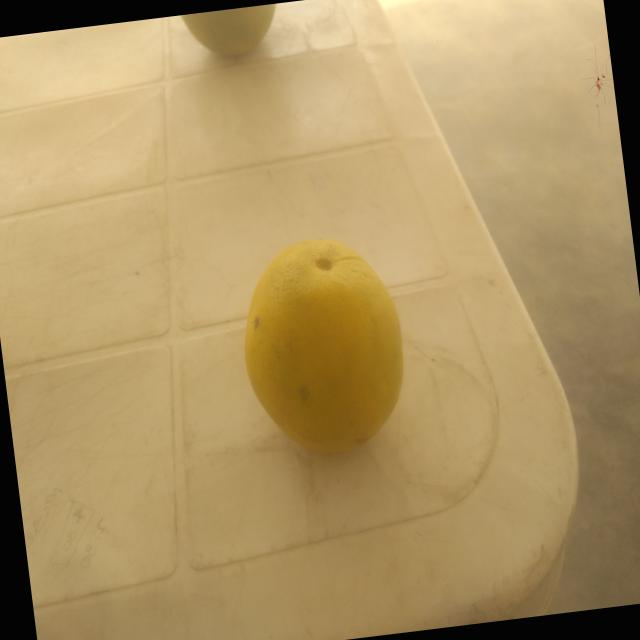Ripe orange: (225, 230, 424, 479)
